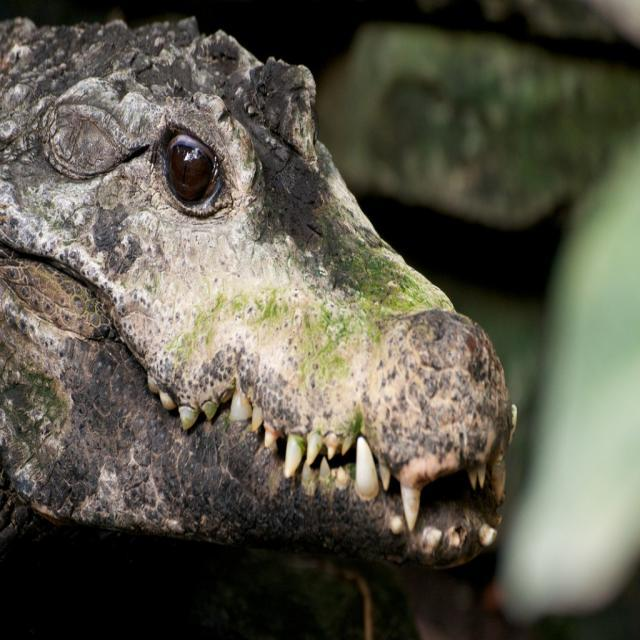crocodile: (6, 1, 519, 574)
